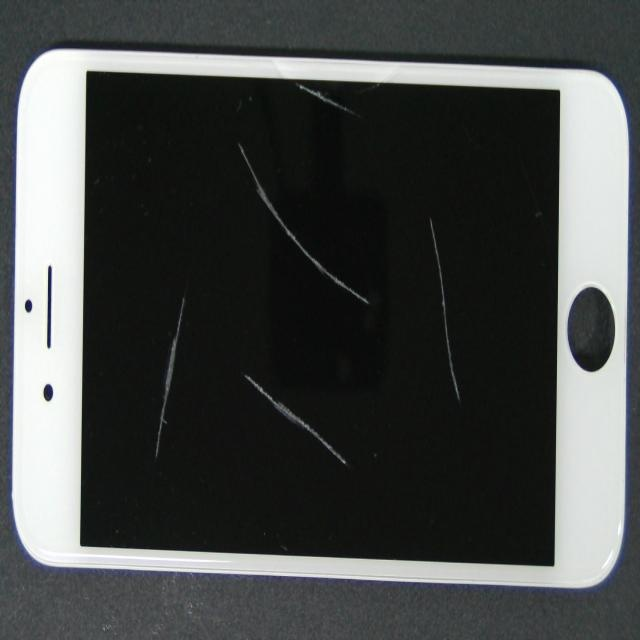scratch: (73, 245, 220, 640)
